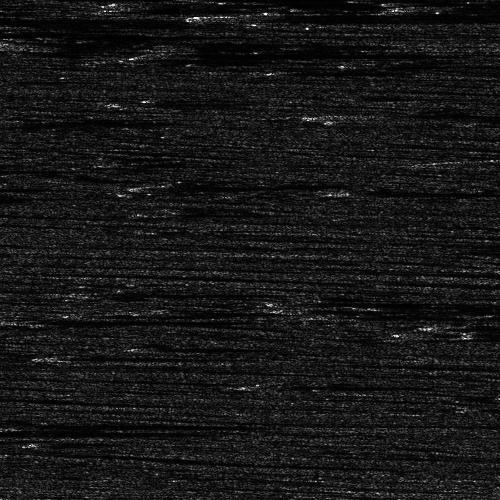object: (166, 7, 291, 24), (274, 109, 399, 122), (122, 44, 215, 61), (0, 34, 74, 49), (435, 156, 498, 167), (100, 97, 173, 106), (381, 2, 454, 11), (337, 182, 368, 199), (267, 67, 330, 72), (224, 382, 287, 387), (0, 418, 26, 429), (0, 317, 54, 322), (23, 354, 64, 359), (87, 281, 98, 298), (148, 345, 189, 348), (479, 321, 500, 326), (462, 330, 483, 335), (0, 117, 17, 122)
shadow: (12, 34, 381, 49), (228, 7, 500, 24), (0, 23, 246, 40), (0, 0, 217, 19), (168, 44, 392, 61), (0, 418, 337, 429), (353, 182, 500, 199), (336, 109, 500, 122), (0, 14, 173, 25), (93, 281, 199, 298), (22, 317, 229, 322), (137, 97, 246, 106), (256, 382, 423, 387), (44, 354, 204, 359), (6, 117, 163, 122), (418, 2, 500, 11), (0, 190, 79, 199), (299, 67, 415, 72), (168, 41, 336, 44), (466, 156, 500, 167), (169, 345, 277, 348), (473, 330, 500, 335)
